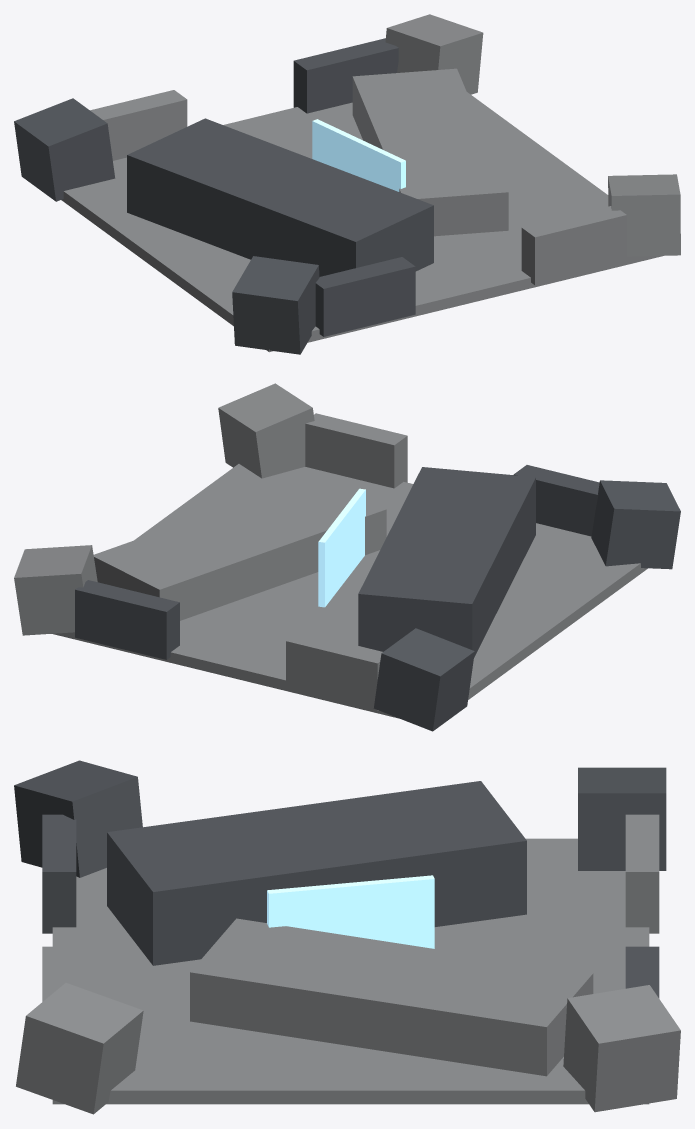
3 views of the same model, one above another, from view 1: azimuth 30°, elevation 25°; view 2: azimuth 150°, elevation 25°; view 3: azimuth 270°, elevation 25° (orthographic). The views are drawn at different scales.
Parts seen in each view (by area): view 1: SplitMassA, DistrictFloor, SplitMassB, BoundaryMass0, BoundaryMass2, BoundaryNorthEast, BoundaryNorthWest, BoundaryMass3, BoundarySouthEast, BoundaryMass1, BoundarySouthWest, SplitSeam; view 2: DistrictFloor, SplitMassA, SplitMassB, BoundaryMass0, BoundaryMass2, BoundaryMass3, BoundarySouthEast, BoundaryMass1, BoundaryNorthEast, BoundarySouthWest, BoundaryNorthWest, SplitSeam; view 3: DistrictFloor, SplitMassA, SplitMassB, BoundaryMass1, BoundaryMass3, BoundaryMass2, SplitSeam, BoundaryMass0, BoundarySouthWest, BoundaryNorthWest, BoundaryNorthEast, BoundarySouthEast.
Boxes of the visible parts, x1,y1,x2,y2 form: SplitMassA: [127, 118, 433, 276]; DistrictFloor: [61, 92, 663, 352]; SplitMassB: [352, 68, 508, 236]; BoundaryMass0: [14, 98, 115, 201]; BoundaryMass2: [232, 256, 319, 354]; BoundaryNorthEast: [521, 206, 626, 285]; BoundaryNorthWest: [315, 257, 415, 336]; BoundaryMass3: [608, 174, 680, 256]; BoundarySouthEast: [293, 38, 398, 113]; BoundaryMass1: [385, 14, 483, 94]; BoundarySouthWest: [90, 90, 187, 160]; SplitSeam: [312, 119, 405, 191]; DistrictFloor: [52, 464, 647, 718]; SplitMassA: [358, 467, 535, 657]; SplitMassB: [93, 475, 386, 620]; BoundaryMass0: [373, 628, 474, 731]; BoundaryMass2: [591, 480, 680, 569]; BoundaryMass3: [218, 383, 314, 478]; BoundarySouthEast: [75, 580, 179, 659]; BoundaryMass1: [14, 545, 97, 635]; BoundaryNorthEast: [305, 413, 407, 488]; BoundarySouthWest: [286, 631, 382, 711]; BoundaryNorthWest: [513, 465, 599, 536]; SplitSeam: [318, 488, 365, 607]; DistrictFloor: [52, 838, 649, 1104]; SplitMassA: [107, 781, 526, 965]; SplitMassB: [190, 918, 593, 1076]; BoundaryMass1: [563, 985, 680, 1112]; BoundaryMass3: [16, 983, 143, 1114]; BoundaryMass2: [14, 760, 142, 877]; SplitSeam: [267, 875, 434, 948]; BoundaryMass0: [578, 767, 666, 870]; BoundarySouthWest: [625, 814, 659, 933]; BoundaryNorthWest: [42, 814, 76, 933]; BoundaryNorthEast: [42, 946, 76, 1001]; BoundarySouthEast: [625, 946, 659, 998].
Bounding box in the file's own units: 98.87 × 15.7 × 98.37.
